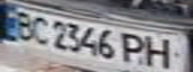2: (45, 18, 69, 52)
3: (63, 21, 84, 54)
4: (78, 25, 100, 57)
6: (96, 27, 121, 61)
B: (6, 8, 39, 42)
C: (27, 15, 54, 45)
H: (142, 34, 184, 71)
P: (118, 30, 151, 65)
